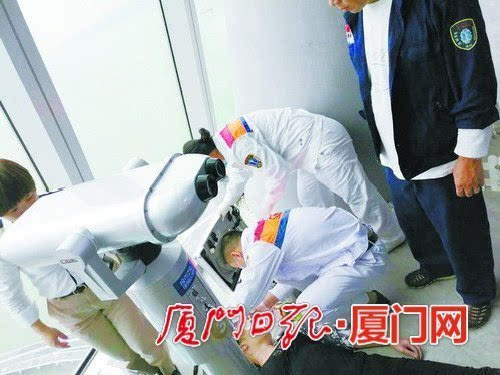fall: (198, 278, 500, 373)
